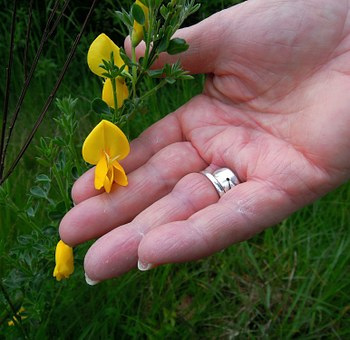palm: (203, 15, 330, 190)
